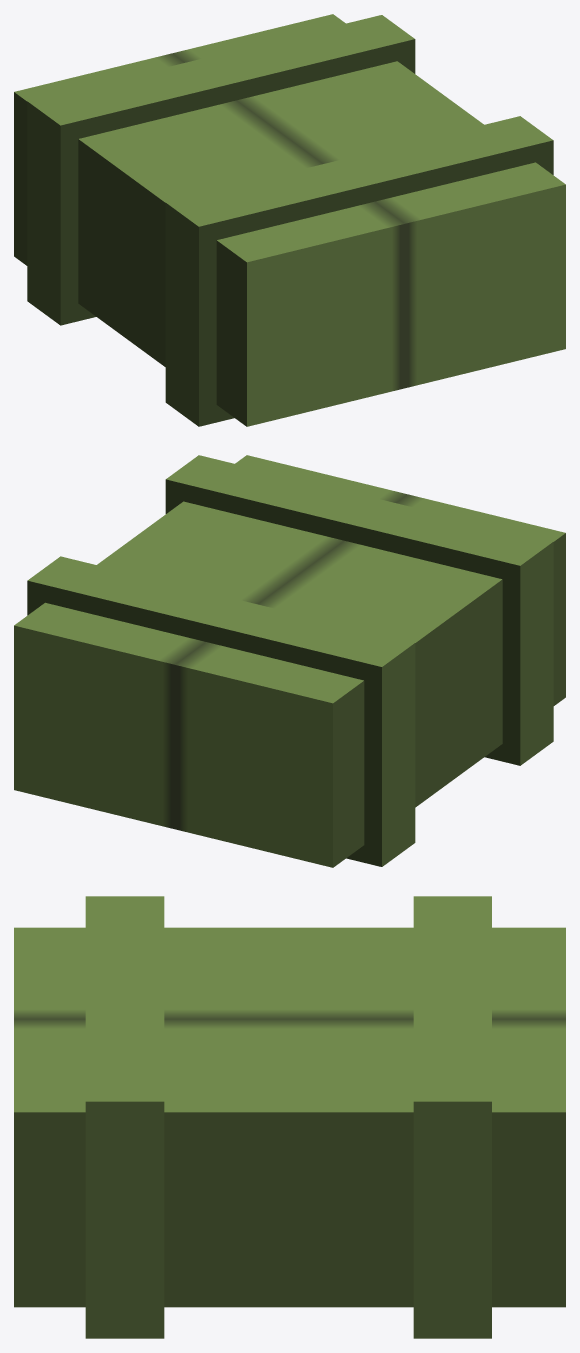
Rendered from SM_Prop_Ammo_Box_05.fbx.
3 renders of one model, top to bottom at view 1: azimuth 30°, elevation 25°; view 2: azimuth 150°, elevation 25°; view 3: azimuth 270°, elevation 25°, orthographic. The views are drawn at different scales.
Parts seen in each view (by area): view 1: SM_Prop_Ammo_Box_05; view 2: SM_Prop_Ammo_Box_05; view 3: SM_Prop_Ammo_Box_05.
Part boxes in pixels (<box>): SM_Prop_Ammo_Box_05: <box>14,14,565,426</box>; SM_Prop_Ammo_Box_05: <box>14,455,565,867</box>; SM_Prop_Ammo_Box_05: <box>14,896,565,1338</box>.
Bounding box in the file's own units: 1.08 × 0.5804 × 1.22.
